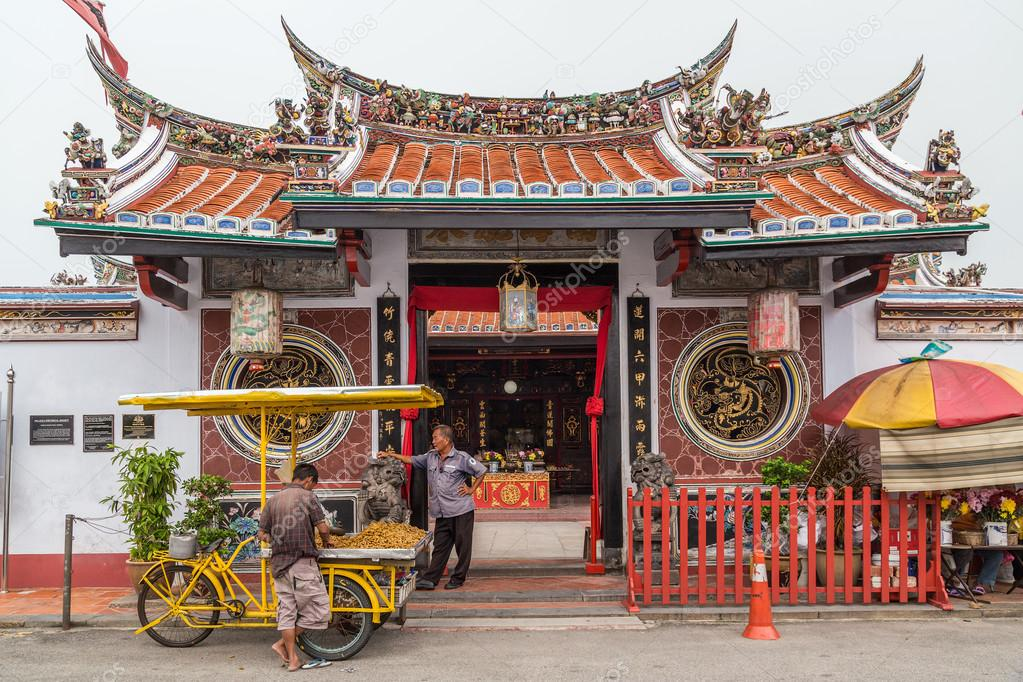Buddhist Temple: (67, 18, 980, 499)
